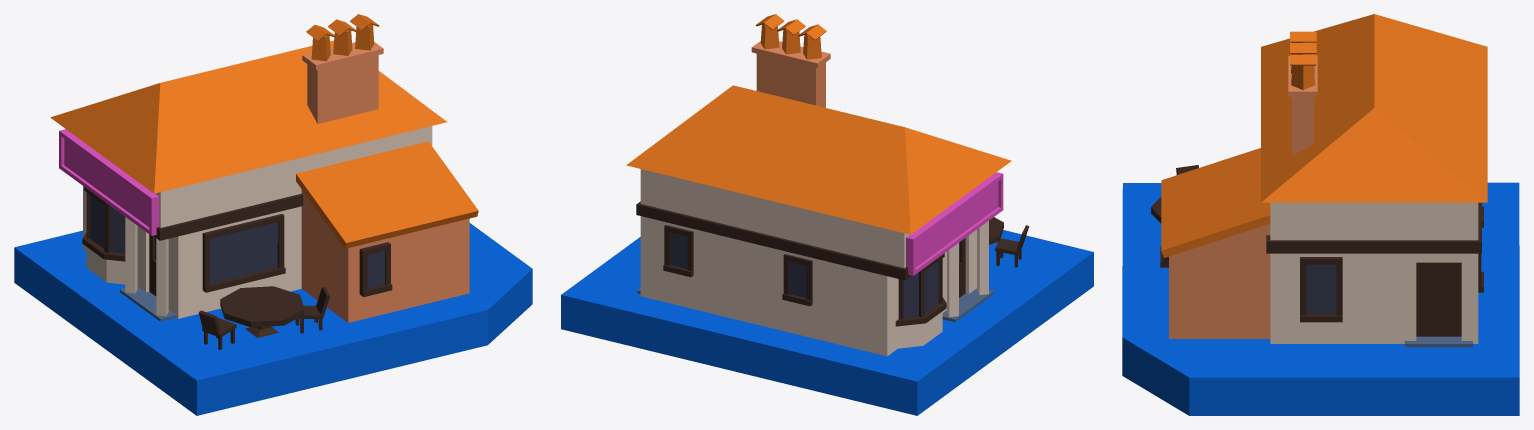
File: Bakery Building2.fbx
3 renders of one model, left to right at view 1: azimuth 30°, elevation 25°; view 2: azimuth 150°, elevation 25°; view 3: azimuth 270°, elevation 25°, orthographic. The views are drawn at different scales.
Parts seen in each view (by area): view 1: Bakery Terra.001, BakerY Foundation.001, Bakery White walls.001, Bakery Brick.001, Bakery Dark Wood.001, Bakery Windows.001, Cube.001, Bakery Sign.001, Plane.004; view 2: BakerY Foundation.001, Bakery Terra.001, Bakery White walls.001, Bakery Dark Wood.001, Bakery Sign.001, Bakery Brick.001, Bakery Windows.001, Cube.001, Plane.004; view 3: Bakery Terra.001, BakerY Foundation.001, Bakery White walls.001, Bakery Brick.001, Bakery Dark Wood.001, Bakery Windows.001, Plane.004.
Boxes of the visible parts, x1,y1,x2,y2 form: Bakery Terra.001: [50, 14, 478, 248]; BakerY Foundation.001: [14, 223, 532, 415]; Bakery White walls.001: [83, 126, 432, 318]; Bakery Brick.001: [301, 42, 469, 322]; Bakery Dark Wood.001: [82, 187, 392, 297]; Bakery Windows.001: [90, 195, 384, 288]; Cube.001: [198, 286, 330, 349]; Bakery Sign.001: [59, 129, 159, 235]; Plane.004: [120, 286, 176, 321]; BakerY Foundation.001: [561, 230, 1093, 415]; Bakery Terra.001: [626, 14, 1011, 234]; Bakery White walls.001: [640, 169, 988, 356]; Bakery Dark Wood.001: [636, 201, 965, 326]; Bakery Sign.001: [906, 172, 1003, 275]; Bakery Brick.001: [751, 41, 830, 107]; Bakery Windows.001: [670, 232, 959, 317]; Cube.001: [989, 217, 1029, 267]; Plane.004: [637, 288, 994, 322]; Bakery Terra.001: [1161, 14, 1487, 257]; BakerY Foundation.001: [1122, 182, 1519, 415]; Bakery White walls.001: [1270, 202, 1478, 343]; Bakery Brick.001: [1169, 55, 1317, 338]; Bakery Dark Wood.001: [1160, 202, 1483, 336]; Bakery Windows.001: [1306, 265, 1336, 313]; Plane.004: [1404, 336, 1472, 347].
Size of the model in its own units: 16.96 by 12.18 by 14.63.
